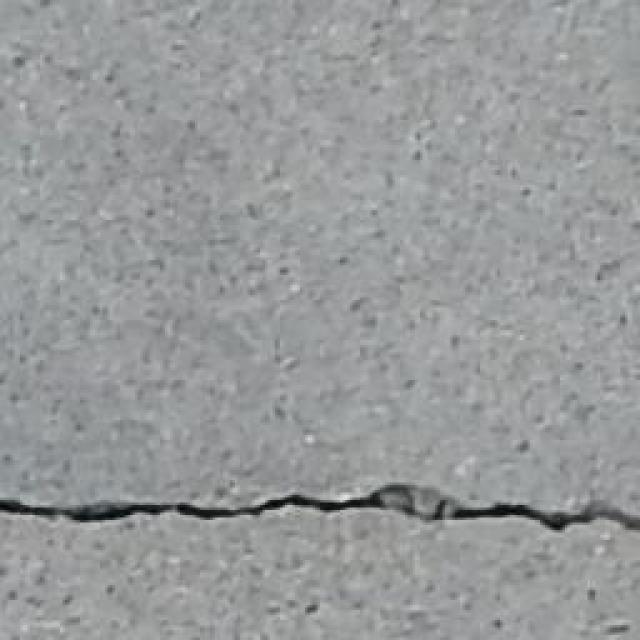concrete-crack: (0, 486, 640, 537)
